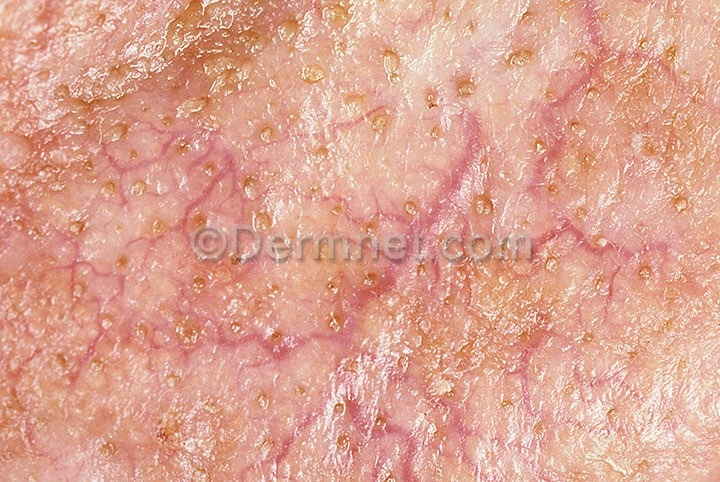Melasma: (0, 0, 720, 224), (0, 260, 720, 482), (2, 215, 194, 276), (536, 208, 720, 271)
